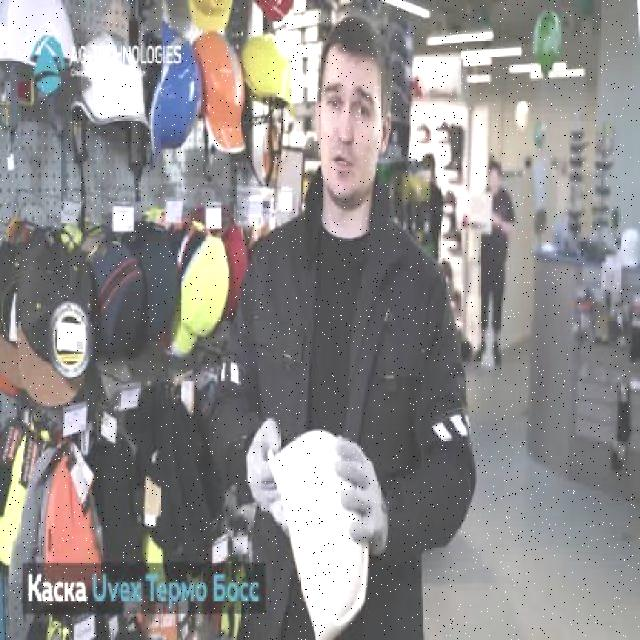Gloves: (332, 429, 392, 557), (246, 416, 280, 510)
Helmet: (266, 428, 374, 638), (69, 29, 151, 132), (148, 22, 202, 165), (190, 28, 248, 154), (0, 0, 81, 78), (241, 33, 294, 107)
